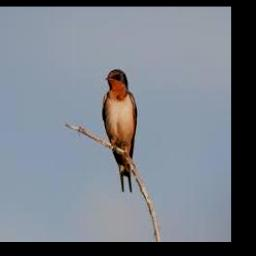Swallow: (103, 69, 137, 192)
